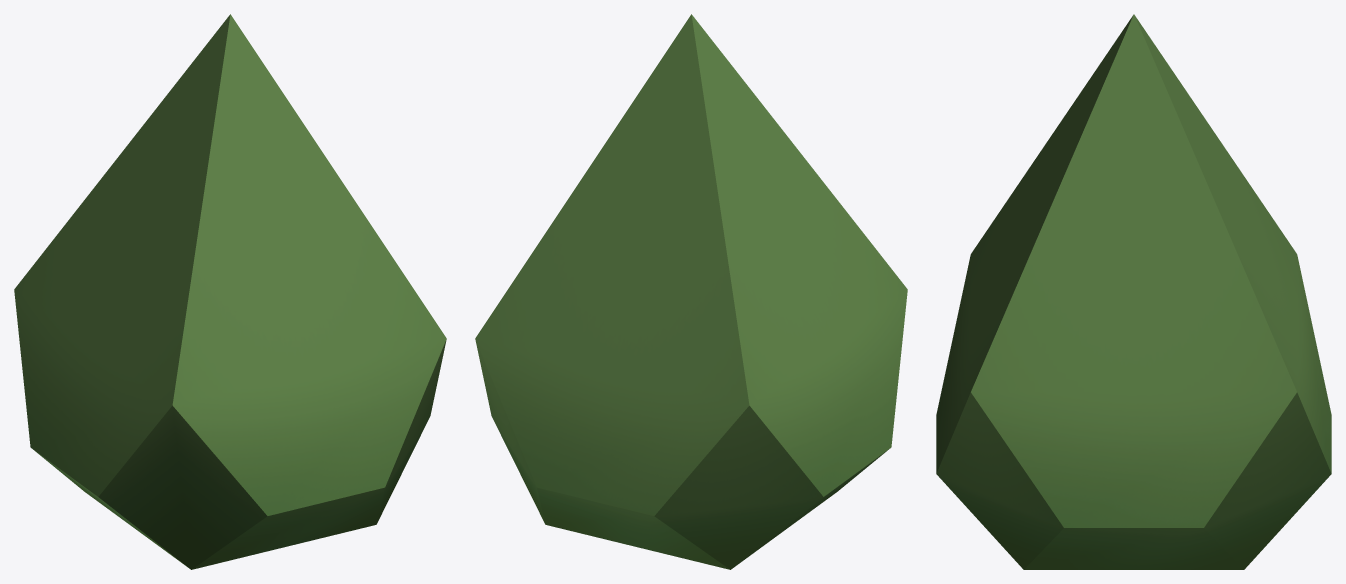
The model's file is grass_3.glb.
3 renders of one model, left to right at view 1: azimuth 30°, elevation 25°; view 2: azimuth 150°, elevation 25°; view 3: azimuth 270°, elevation 25°, orthographic. The views are drawn at different scales.
Visible parts, largest first — view 1: Cube; view 2: Cube; view 3: Cube.
Boxes of the visible parts, x1,y1,x2,y2 form: Cube: [14, 14, 446, 569]; Cube: [475, 14, 907, 569]; Cube: [936, 14, 1331, 569].
Bounding box in the file's own units: 0.8482 × 1.21 × 0.8482.
1 material, 1 textured.
